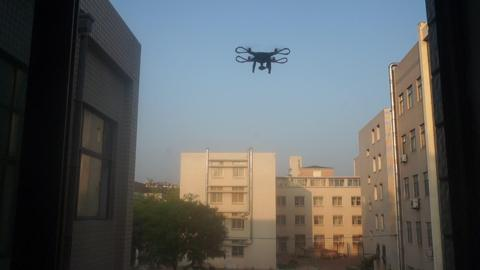UAV: (235, 46, 291, 74)
